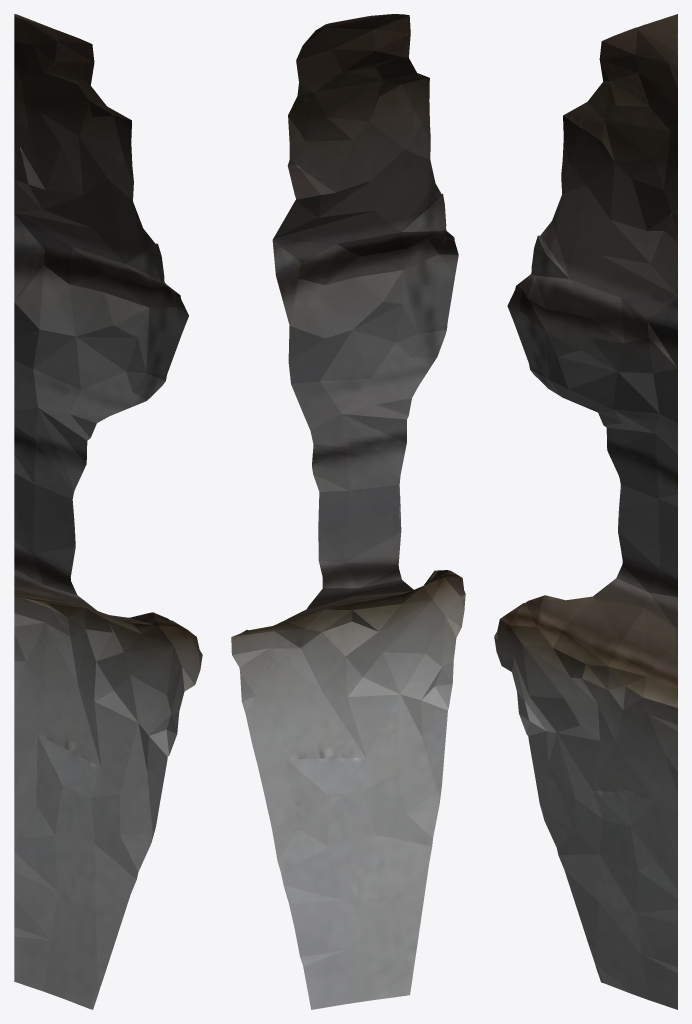
3 views of the same model, side by side, from view 1: azimuth 90°, elevation 25°; view 2: azimuth 150°, elevation 25°; view 3: azimuth 270°, elevation 25° (orthographic). The views are drawn at different scales.
Bounding box in the file's own units: 0.117 × 0.8123 × 0.1397.
1 material, 1 textured.
